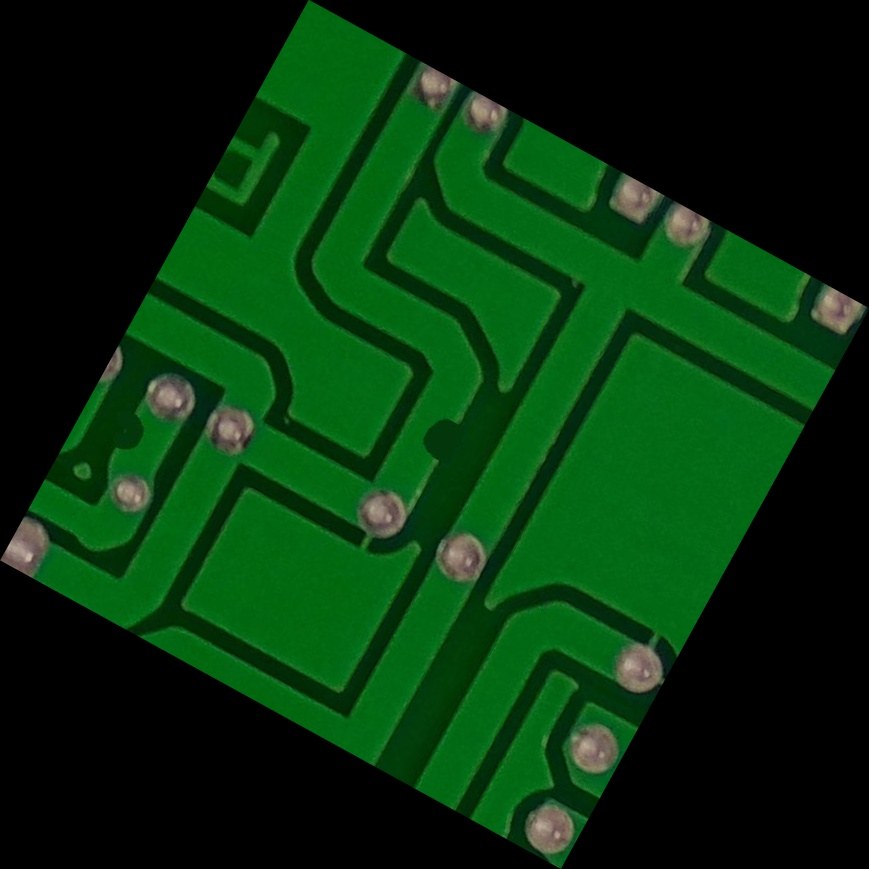mouse_bite: (386, 384, 484, 486)
